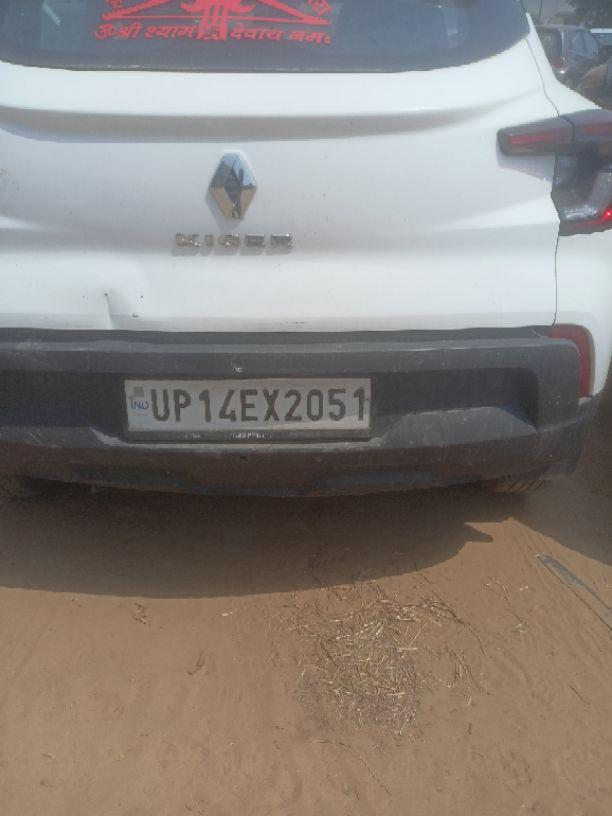license_plate: (119, 374, 374, 440)
